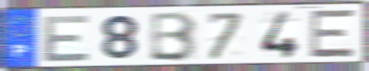4: (258, 9, 301, 60)
7: (207, 11, 245, 60)
8: (100, 13, 141, 62)
B: (148, 10, 200, 63)
E: (41, 13, 93, 64), (308, 8, 358, 59)
